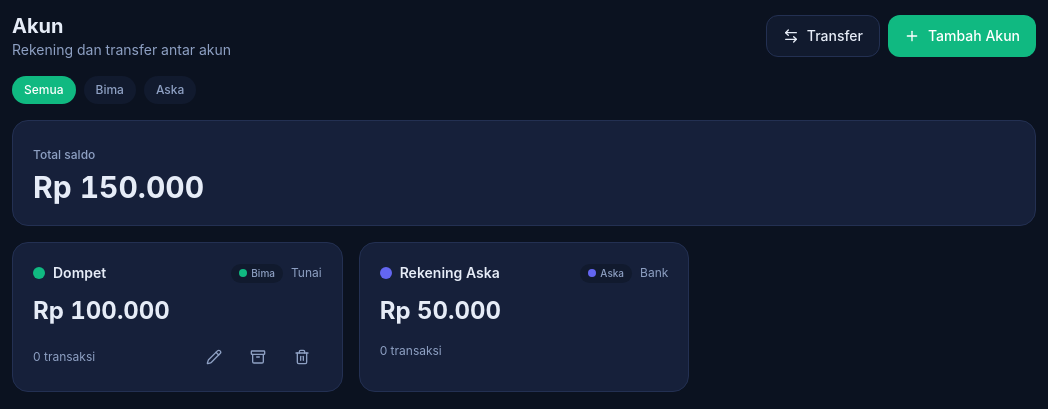
Test case: AccountsPage › filters accounts by owner when a member is selected
Expected: the heading "Dompet" is shown, [53,264,106,281]
Expected: the heading "Rekening Aska" is shown, [400,264,500,281]
What coordinates should you click on to do the following:
click the button "Aska"
I would click on:
 (170, 90)
Its box is [144,76,196,104].
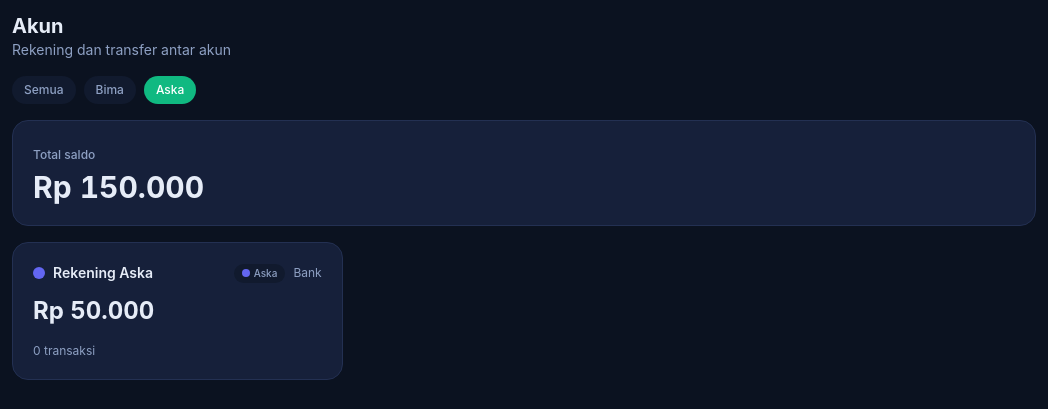
Expected: the heading "Rekening Aska" is shown, [53,264,153,281]
Result: the heading "Dompet" is gone
